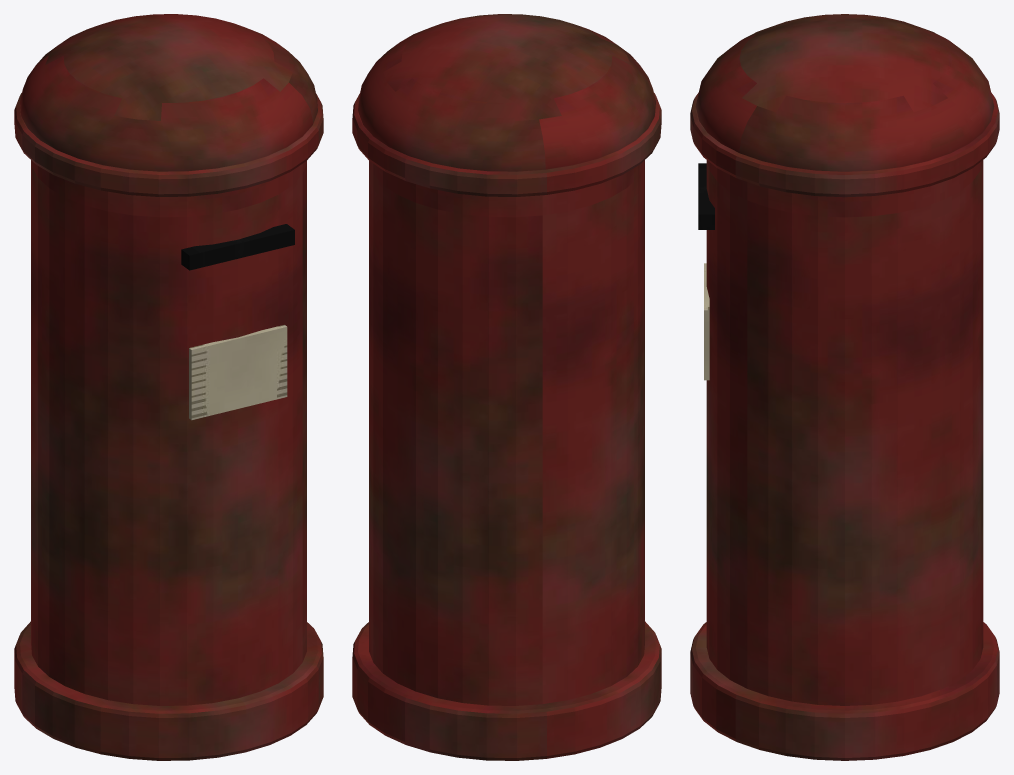
Rendered from ST03_PostBox.glb.
The picture shows the model from 3 angles, left to right: view 1: azimuth 30°, elevation 25°; view 2: azimuth 150°, elevation 25°; view 3: azimuth 270°, elevation 25°; orthographic projection.
Visible parts, largest first — view 1: ST03_PostBox; view 2: ST03_PostBox; view 3: ST03_PostBox.
Boxes of the visible parts, <box> form: ST03_PostBox: <box>14,14,323,760</box>; ST03_PostBox: <box>352,14,661,760</box>; ST03_PostBox: <box>690,14,999,760</box>.
Bounding box in the file's own units: 0.5962 × 1.4 × 0.5962.
3 materials, 3 textured.
